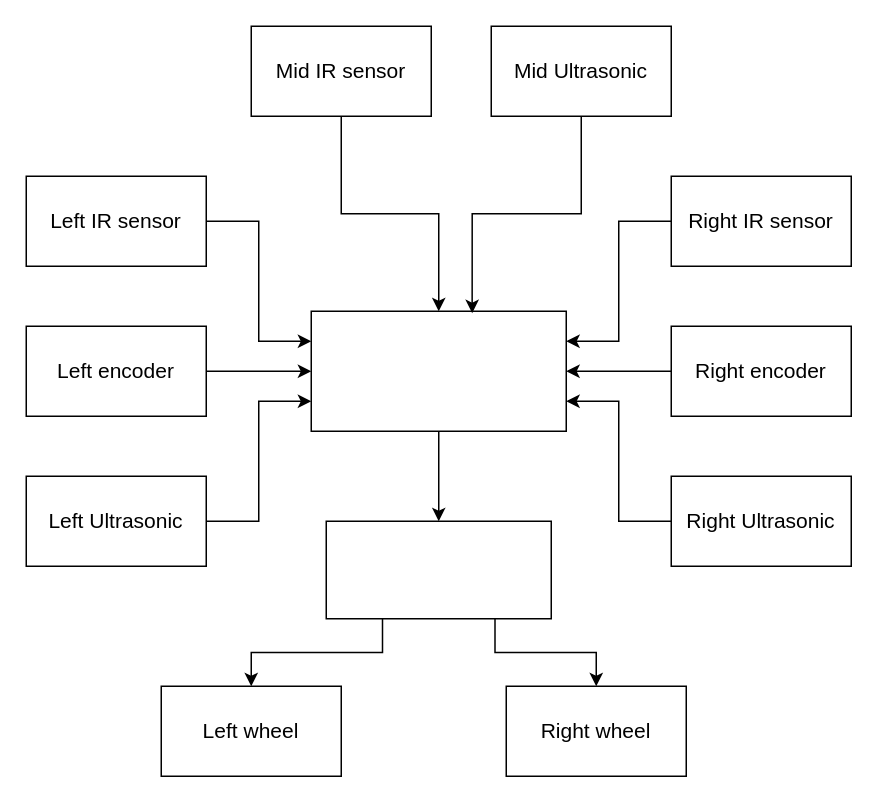
This 878x803 diagram has some shape labels left out. The centre of each missing label's shape, as x and y in pixels:
"Controller" goes at (x=438, y=370).
"motor driver" goes at (x=438, y=569).
